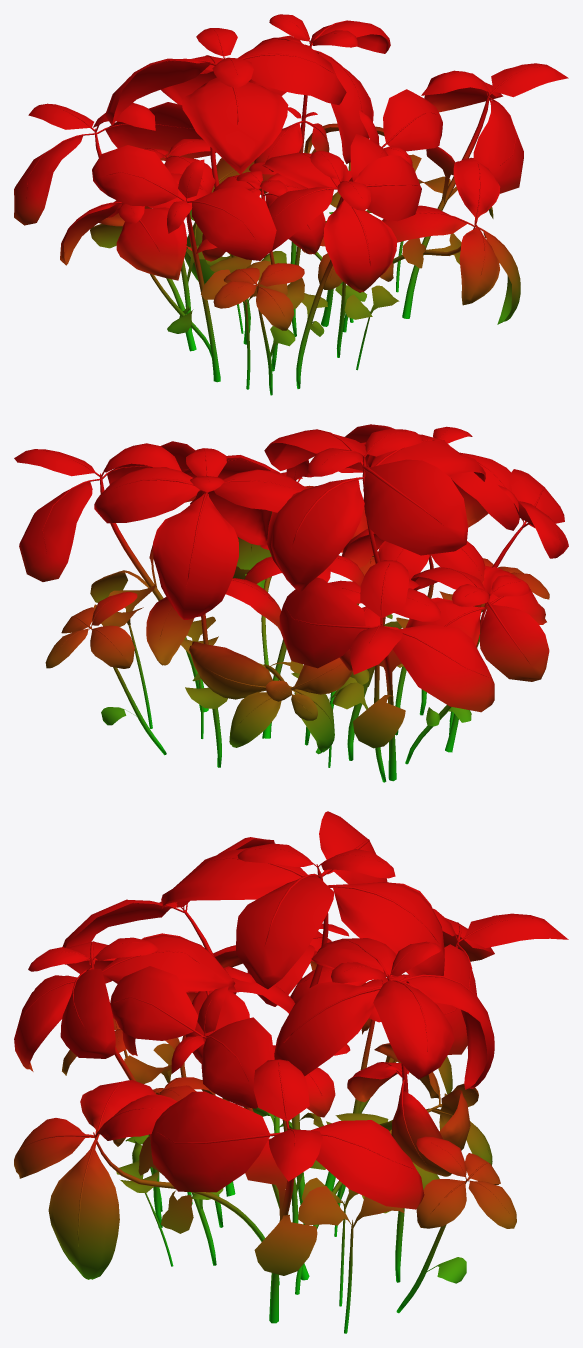
The model's file is Basil_LOD0_Var7_vgpochzia.fbx.
3 views of the same model, one above another, from view 1: azimuth 30°, elevation 25°; view 2: azimuth 150°, elevation 25°; view 3: azimuth 270°, elevation 25° (orthographic). The views are drawn at different scales.
Parts seen in each view (by area): view 1: _4xi6_Var7_LOD0; view 2: _4xi6_Var7_LOD0; view 3: _4xi6_Var7_LOD0.
Part boxes in pixels (left/top/right/bottom): _4xi6_Var7_LOD0: left=14, top=14, right=568, bottom=395; _4xi6_Var7_LOD0: left=14, top=424, right=568, bottom=782; _4xi6_Var7_LOD0: left=14, top=811, right=568, bottom=1333.
Size of the model in its own units: 31.23 by 17.97 by 24.25.
